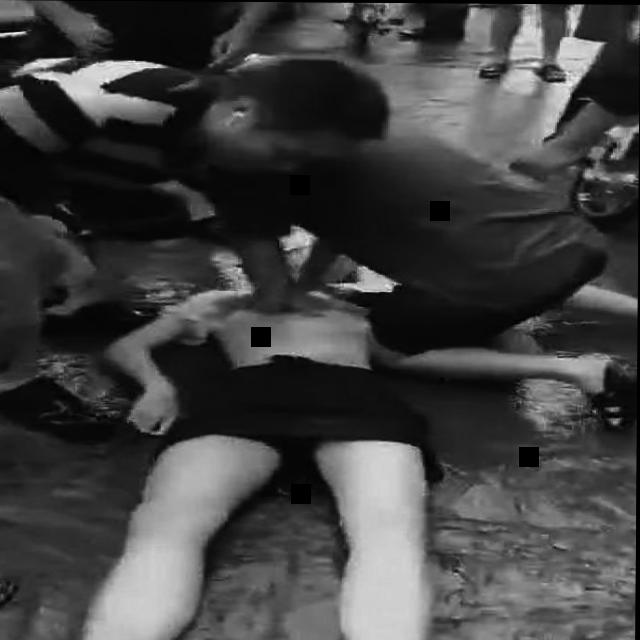Fall-Detected: (2, 233, 595, 640)
